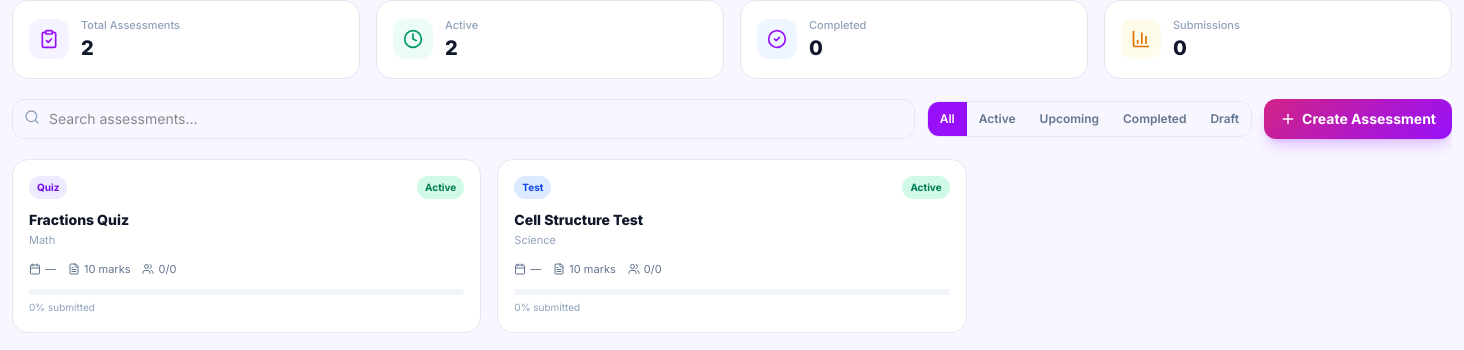
AssessmentsPro › filters by the search box across title/subject/type
The width and height of the screenshot is (1464, 350).
Expected: the heading "Fractions Quiz" is shown, [29,210,129,228]
Type "cell" into the field with placeholder "Search assessments…" at (463, 118), box [12,98,915,138]
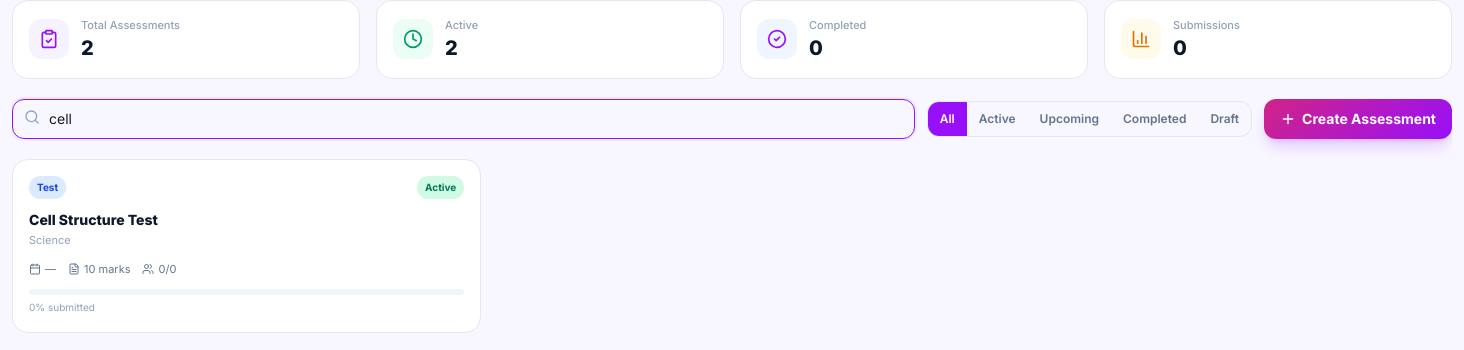
Expected: the heading "Cell Structure Test" is shown, [29,210,158,228]
Now the heading "Fractions Quiz" is gone
